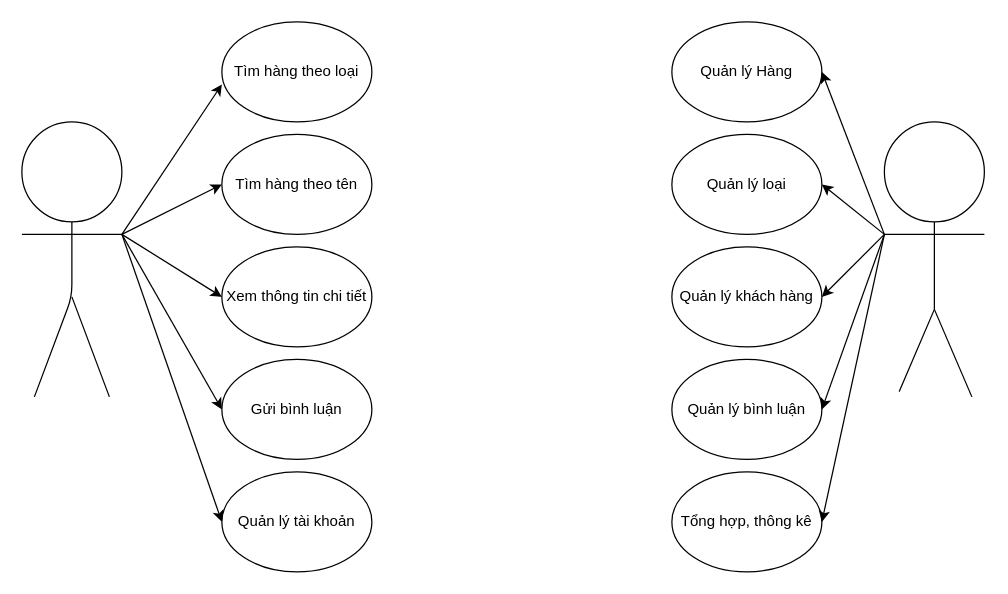
Some shapes in this 1008 by 594 pixel diagram are drawn without their labels. Each missing label, with the box of its shape:
Khách hàng: (21, 121, 122, 222)
Quản trị: (883, 121, 984, 222)
